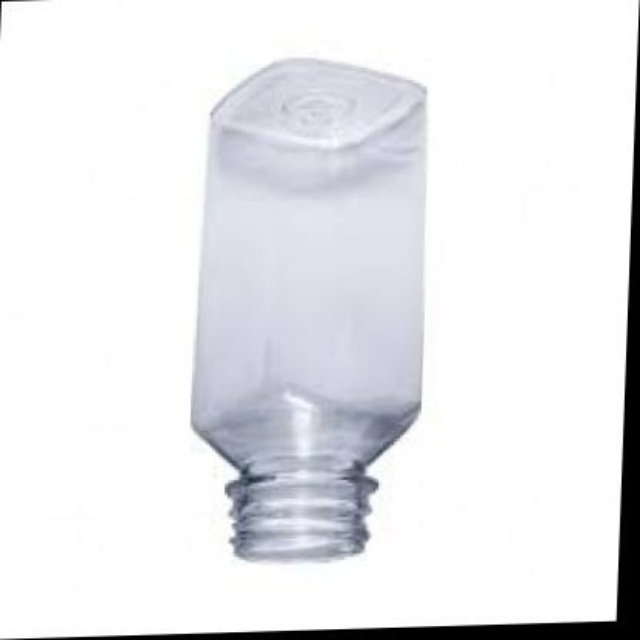trash: (192, 58, 425, 558)
